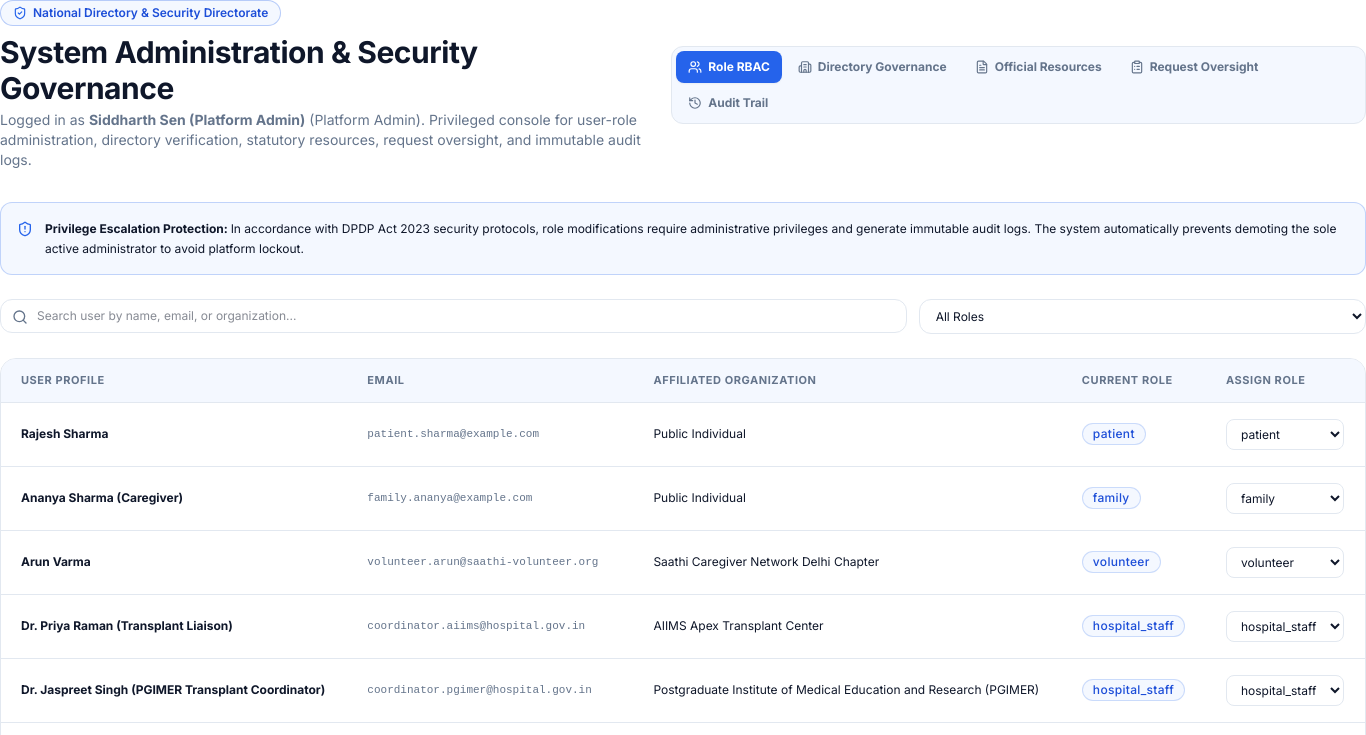
it: Admin Portal & Privilege Escalation Guard Suite › 5. Patient Request Oversight › oversees assistance requests, allowing status update and volunteer assignment
Click the button "Request Oversight": [1194, 67] box [1118, 51, 1270, 83]
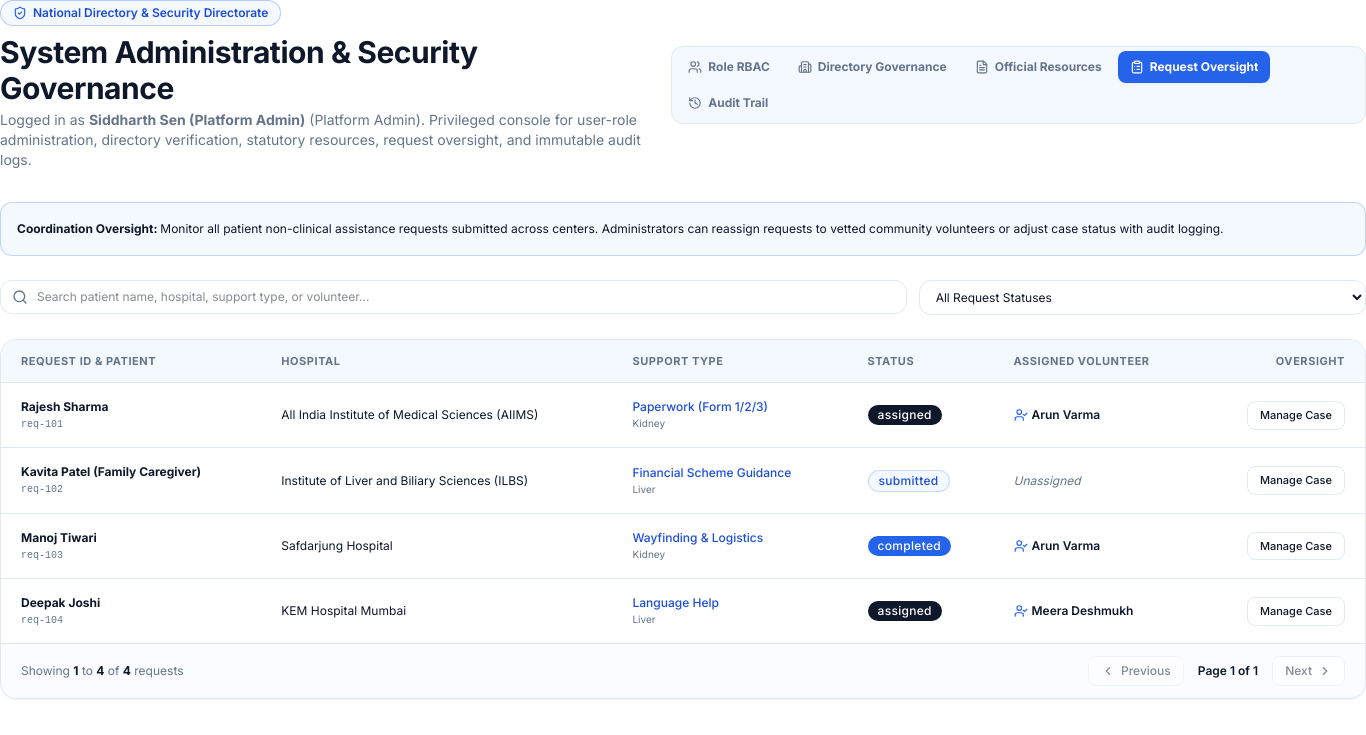
Check: the text "Rajesh Sharma" is shown, box [21, 399, 108, 414]
Check: the text "Coordination Oversight:" is shown, box [17, 221, 160, 236]
Note: Click Manage Case on first request
Click the button "Manage Case" in the row of "Rajesh Sharma": [1296, 415] box [1247, 401, 1345, 430]
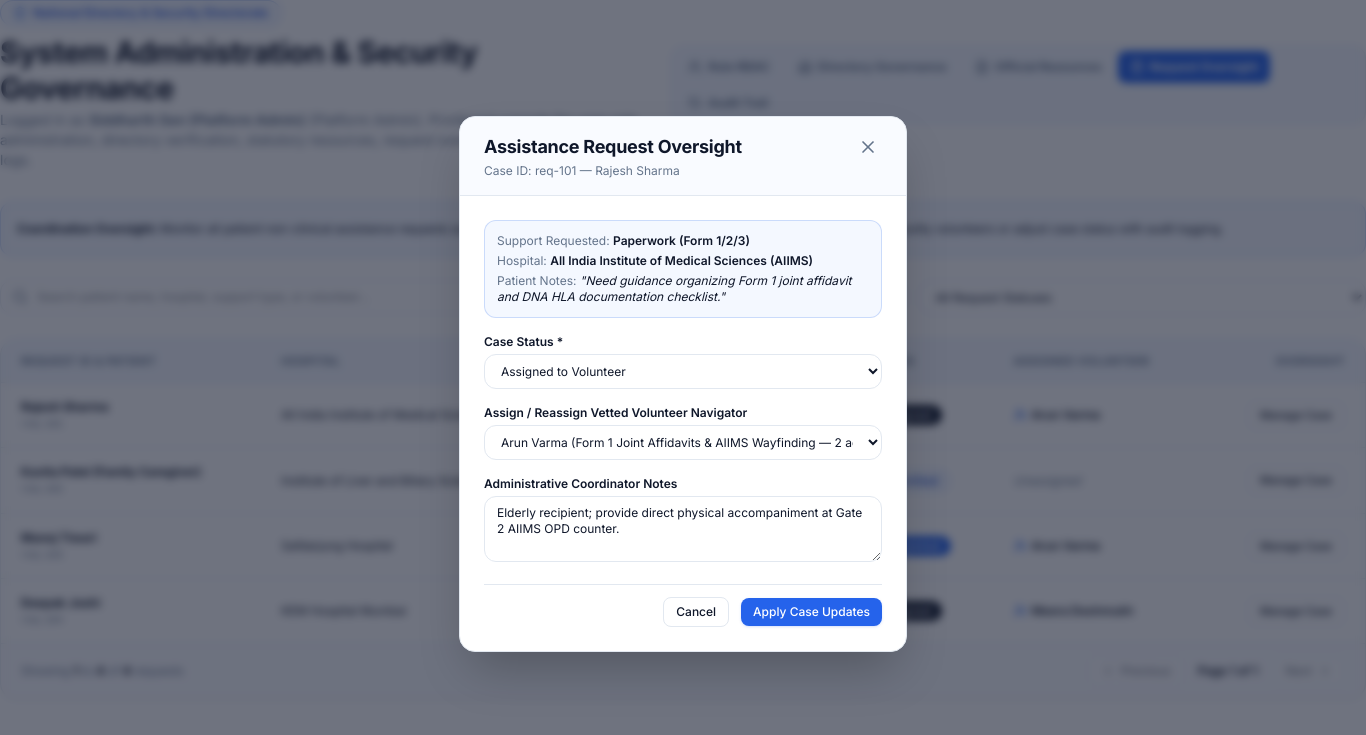
Check: the text "Support Requested:" is shown, box [497, 233, 613, 248]
Check: the dropdown labelled "Case Status *" is shown, box [484, 354, 882, 389]
Note: Save updates
Click the button "Apply Case Updates": [812, 612] box [741, 598, 882, 626]
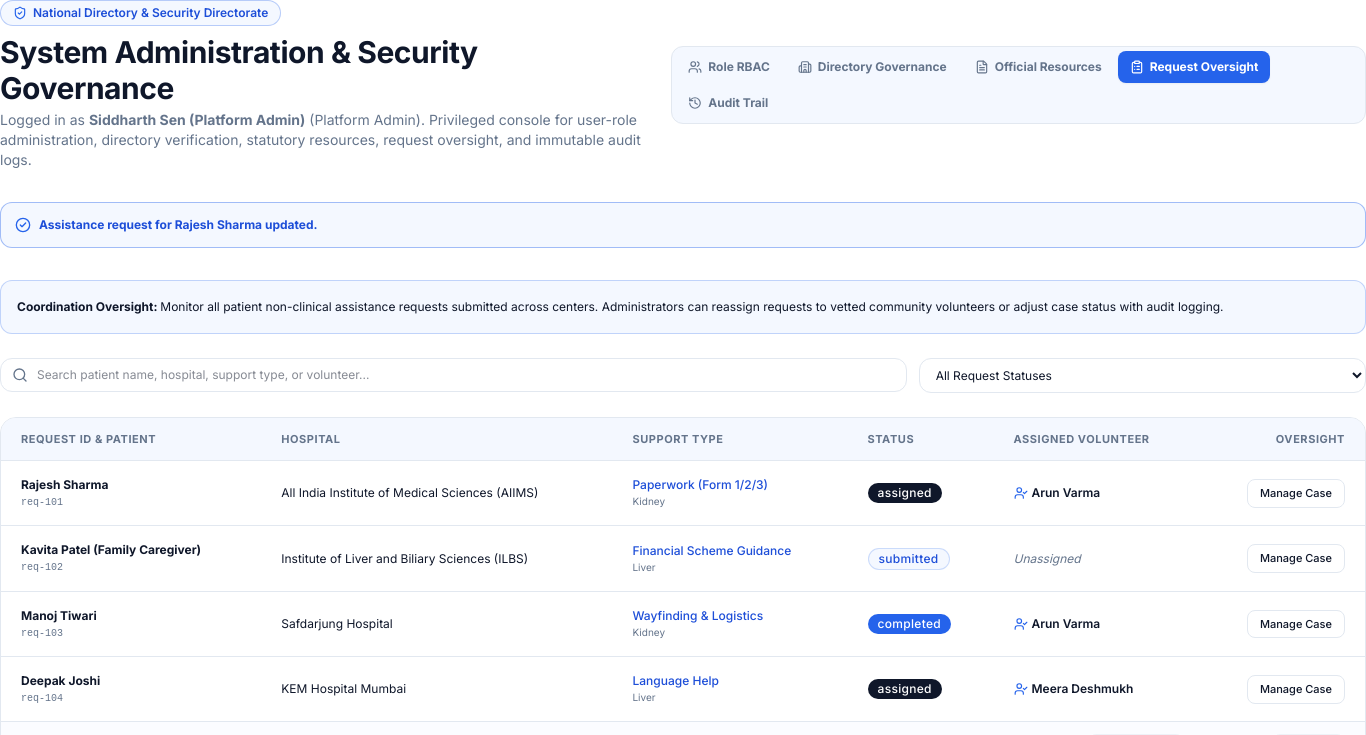
Check: the text "Assistance request for Rajesh Sharma updated." is shown, box [39, 217, 318, 233]
